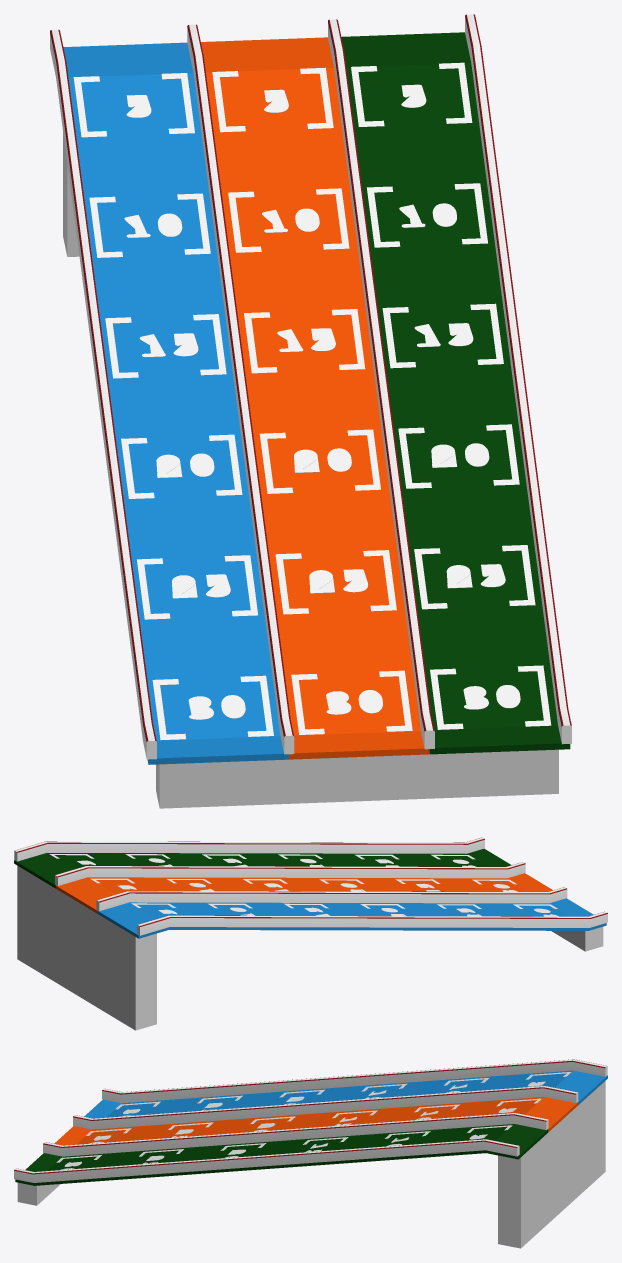
3 views of the same model, one above another, from view 1: azimuth 30°, elevation 25°; view 2: azimuth 150°, elevation 25°; view 3: azimuth 270°, elevation 25° (orthographic). The views are drawn at different scales.
Visible parts, largest first — view 1: Group65899, Line1789538385, Line1789538386, Line1789538384, Text044, Text045, Text043; view 2: Line1789538386, Group65899, Line1789538384, Line1789538385, Text045, Text044, Text043; view 3: Line1789538386, Group65899, Line1789538384, Line1789538385, Text044, Text043, Text045.
Part boxes in pixels (x1,y1,x2,y2): Group65899: (73,32,570,759); Line1789538385: (63,42,288,764); Line1789538386: (50,14,571,759); Line1789538384: (63,132,558,808); Text044: (262,89,382,714); Text045: (124,95,245,719); Text043: (399,84,520,709); Line1789538386: (14,837,607,935); Group65899: (14,848,557,913); Line1789538384: (17,865,603,1030); Line1789538385: (97,898,606,938); Text045: (158,907,558,916); Text044: (118,883,517,891); Text043: (77,858,476,866); Line1789538386: (14,1059,607,1182); Group65899: (15,1072,578,1185); Line1789538384: (17,1081,605,1248); Line1789538385: (84,1070,607,1118); Text044: (90,1108,516,1143); Text043: (61,1134,487,1169); Text045: (121,1081,545,1116).
Bounding box in the file's own units: 253 × 102 × 351.
